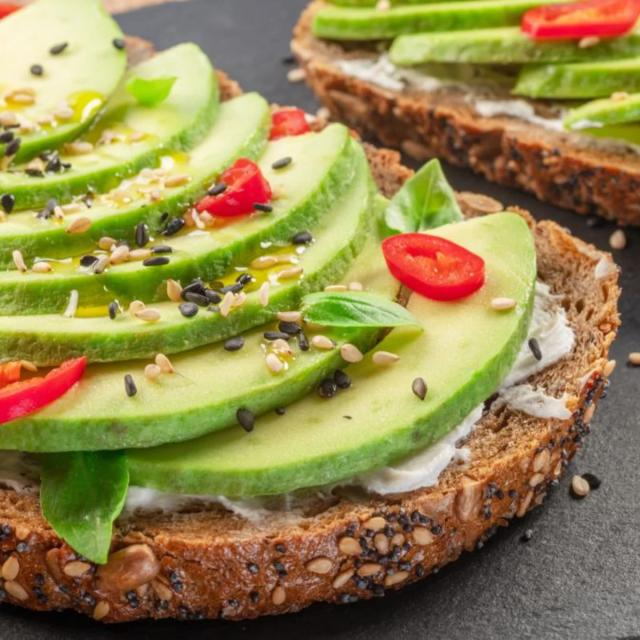aguacate: (5, 1, 554, 512)
